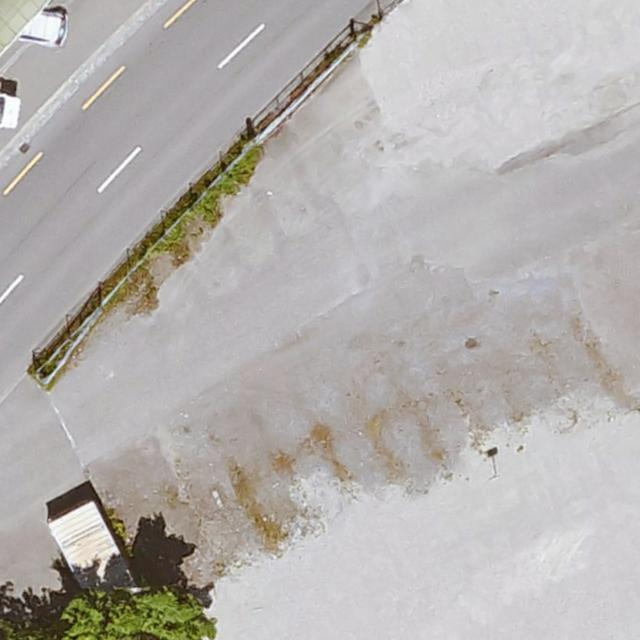tree: (56, 588, 215, 640), (0, 614, 60, 640)
